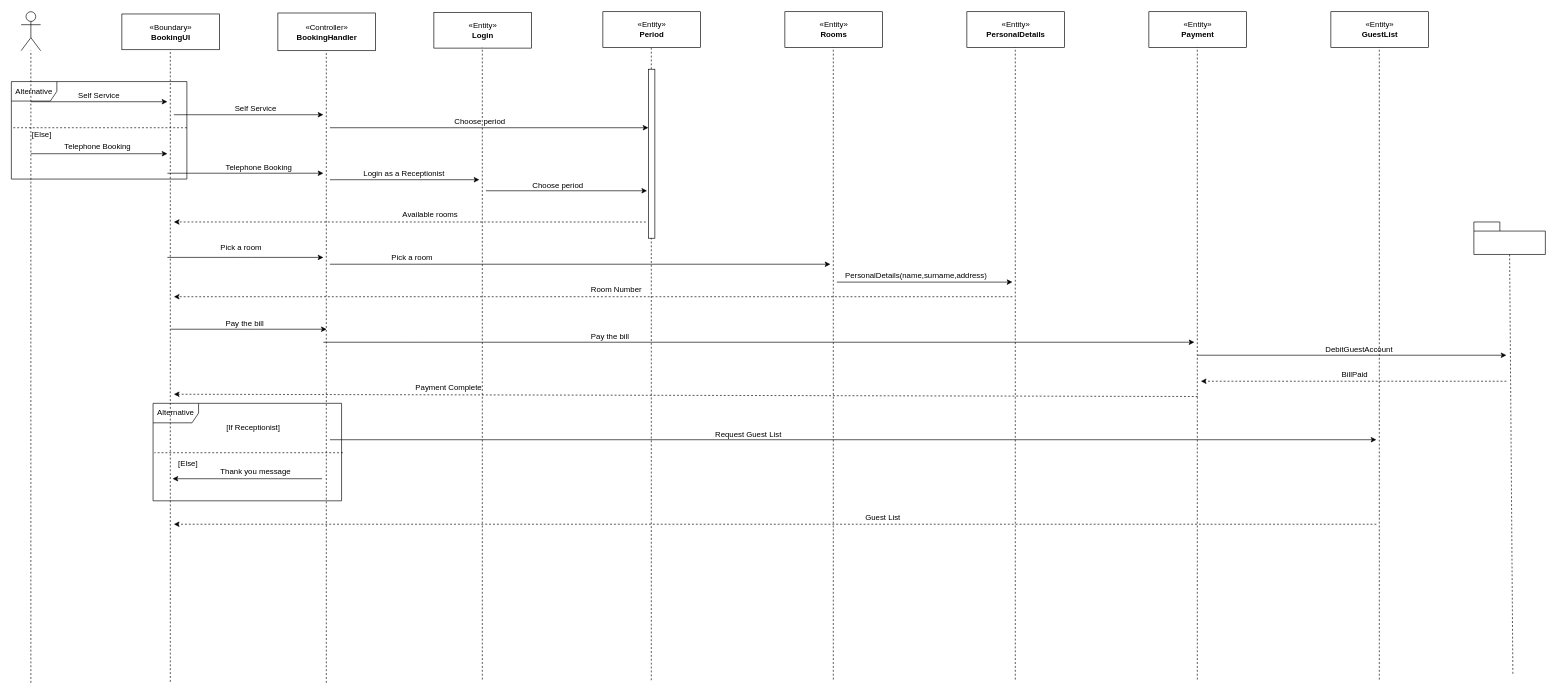
Some shapes in this 1557 by 695 pixel diagram are drawn without their labels. The shapes that lost their labels are listed below. From the top down, each one's centre as x and y in pixels, then its label:
At pixel 30 31: "User".
At pixel 1509 237: "Card Bureau".
